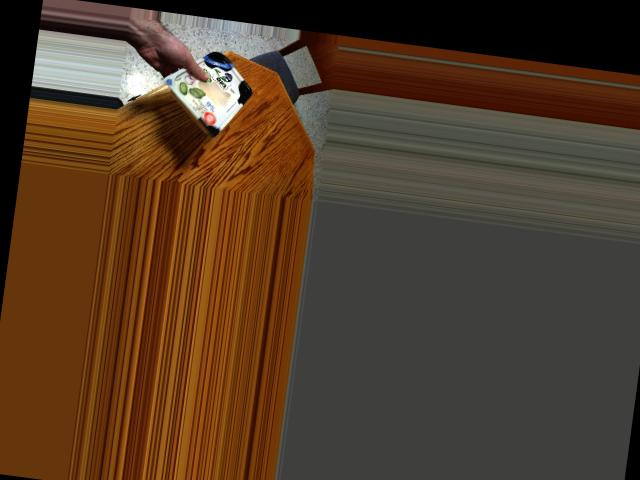cheese: (166, 57, 253, 128)
